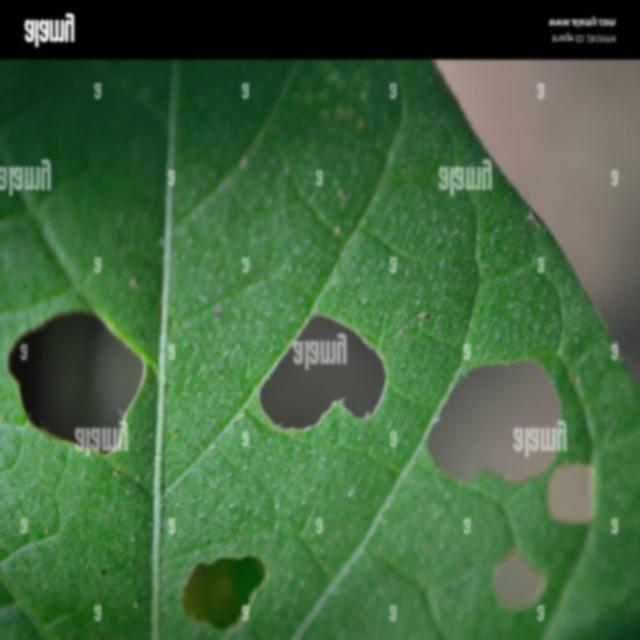shot_hole: (38, 30, 624, 640)
